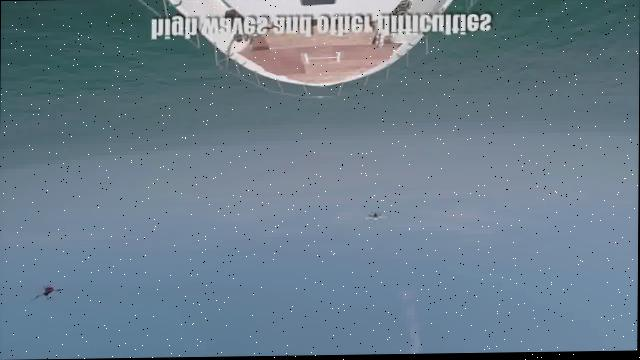drone: (31, 280, 62, 305), (361, 211, 385, 227)
